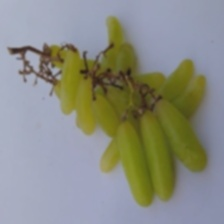grapes: (24, 28, 203, 214)
